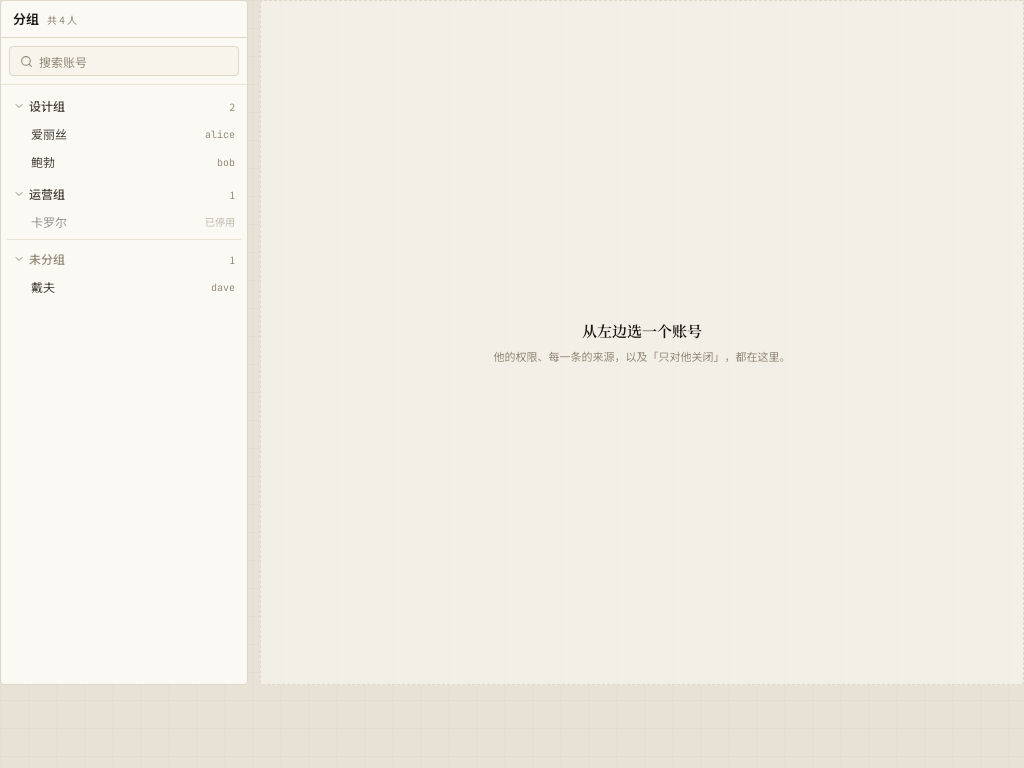
PermissionsSection：左树选人，右侧看权限 › 未分组也能折叠（它和真实分组共用一份开合状态）
Expected: the text "戴夫" is shown, [31,278,55,296]
Step 1. Click the button "未分组 1" → [124, 259], box [7,244,241,274]
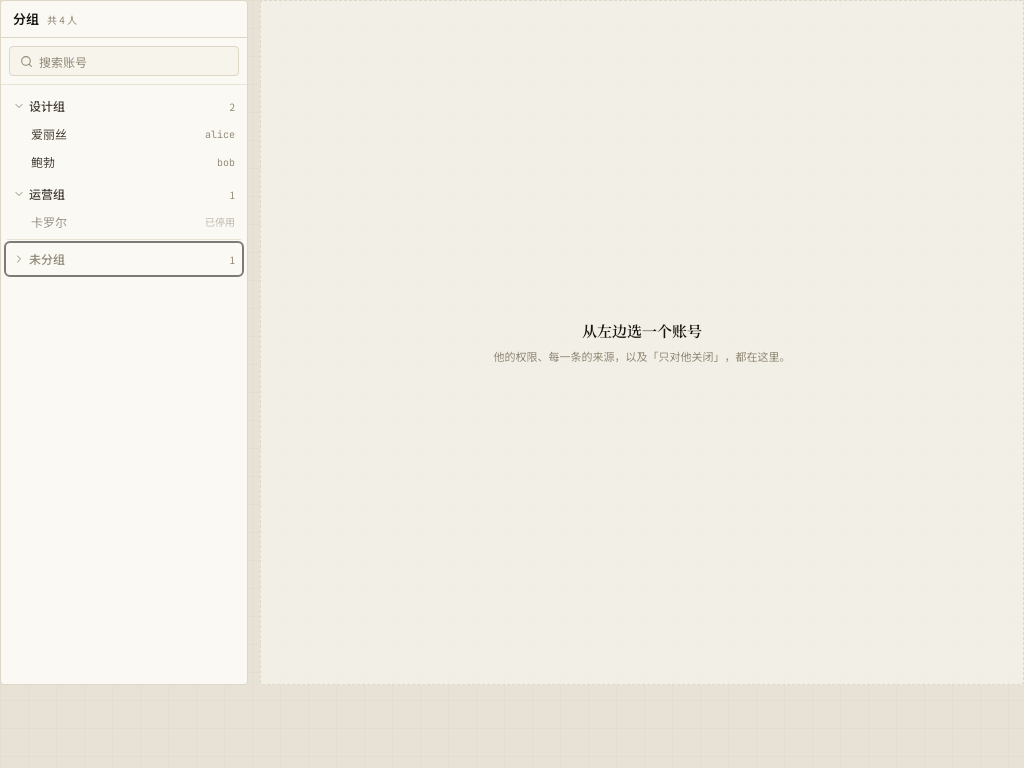
Expected: the text "未分组" is shown, [29,250,65,268]
Now the button "戴夫" is gone
